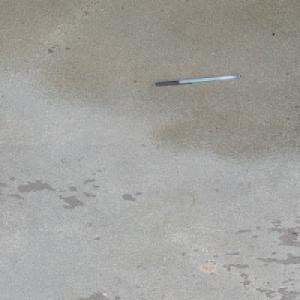Pen: (154, 74, 241, 86)
